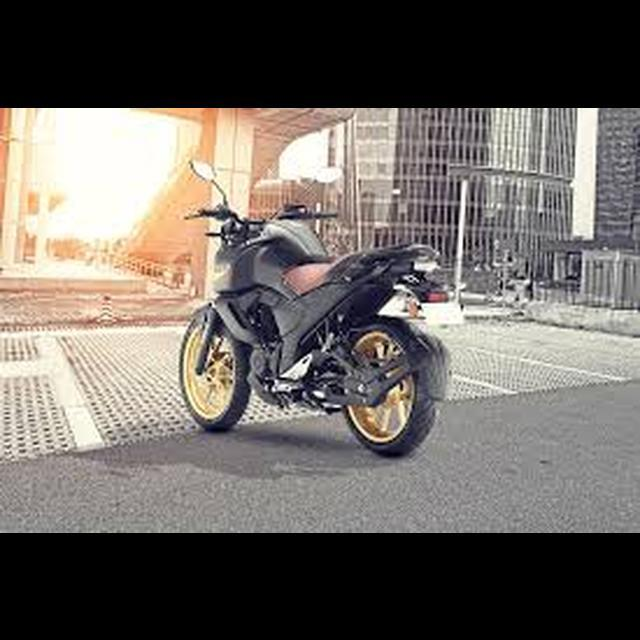motorcycle: (179, 155, 473, 462)
